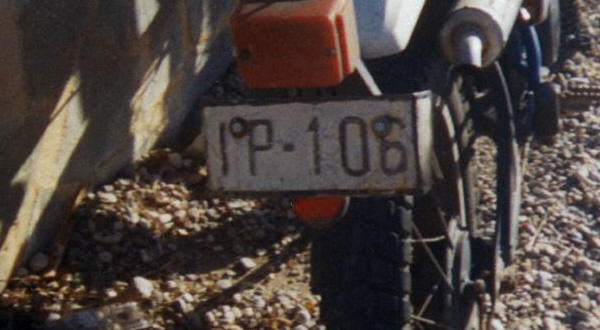license_plate: (202, 95, 423, 196)
